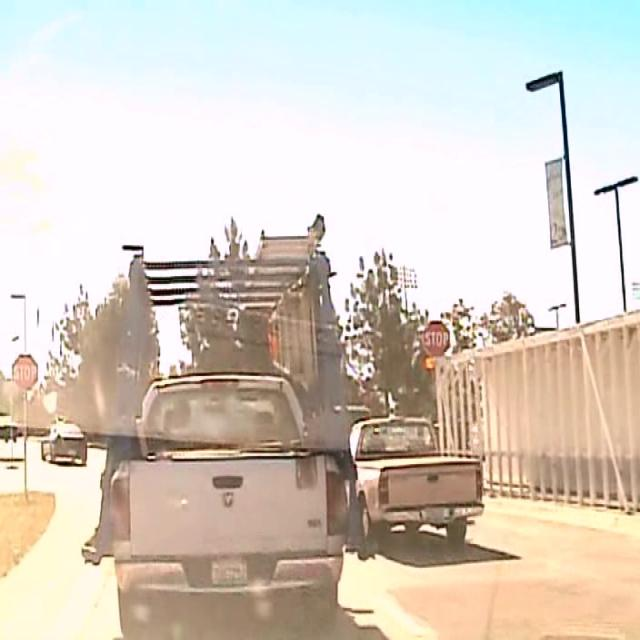stop_sign: (422, 318, 450, 358), (12, 354, 38, 389)
